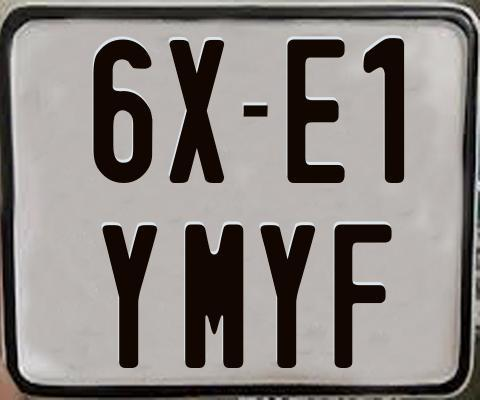1: (362, 36, 407, 182)
6: (93, 39, 158, 186)
E: (287, 36, 350, 183)
F: (334, 222, 398, 367)
M: (185, 222, 250, 368)
X: (169, 37, 226, 182)
Y: (102, 225, 158, 370), (258, 225, 314, 369)
